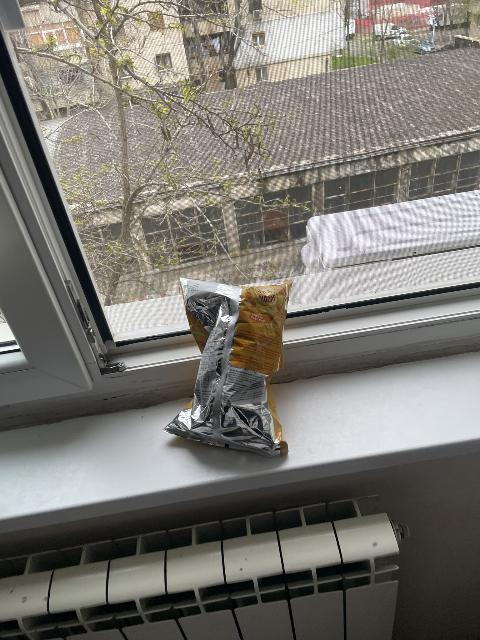Chio Hula Hoops Cheese 70g: (161, 282, 291, 455)
